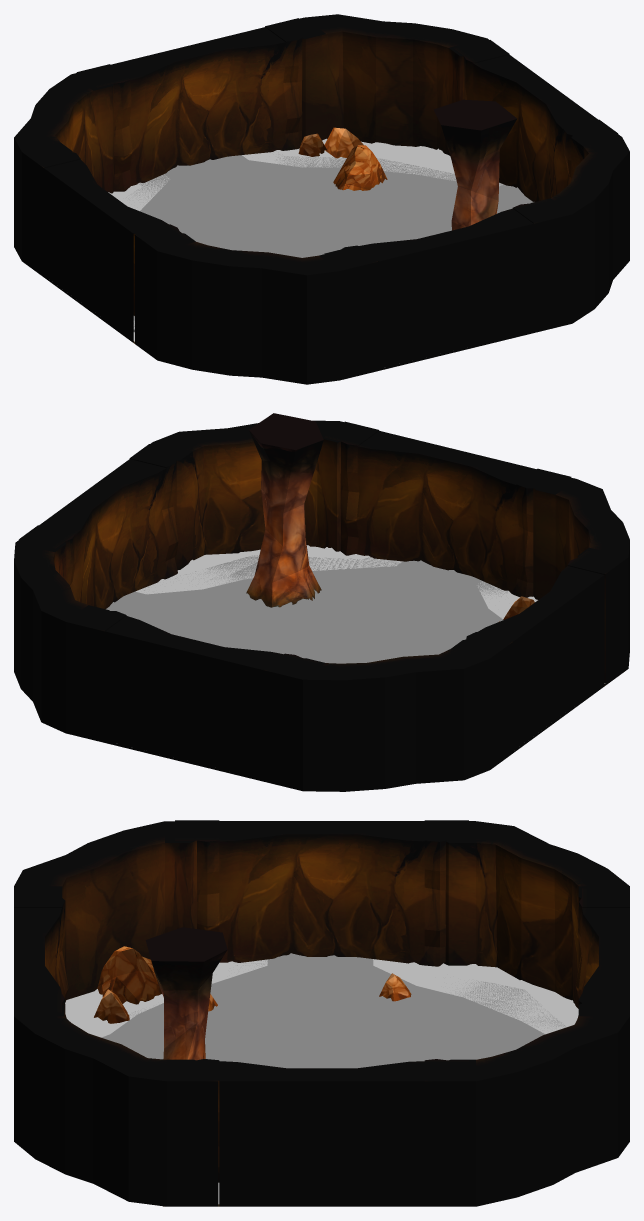
The model's file is Dungeon_062_StartRoom_001_Ev.fbx.
The picture shows the model from 3 angles, top to bottom: view 1: azimuth 30°, elevation 25°; view 2: azimuth 150°, elevation 25°; view 3: azimuth 270°, elevation 25°; orthographic projection. The views are drawn at different scales.
Visible parts, largest first — view 1: Dun_062_StartRoom_001_wall, Dun_062_Door_002 (×4), Dun_062_StartRoom_002_Nav, Dungeon_062_Object_04_Pillar, Dun_062_StartRoom_001_shadow, Dungeon_062_Object_03_Rock, Dun_062_Object_100; view 2: Dun_062_Door_002 (×4), Dun_062_StartRoom_001_wall, Dun_062_StartRoom_002_Nav, Dungeon_062_Object_04_Pillar, Dun_062_StartRoom_001_shadow; view 3: Dun_062_StartRoom_001_wall, Dun_062_Door_002 (×4), Dun_062_StartRoom_002_Nav, Dun_062_StartRoom_001_shadow, Dungeon_062_Object_04_Pillar, Dun_062_Object_100, Dungeon_062_Object_01_Rock.
Boxes of the visible parts, box(x1,y1,x2,y2) form: Dun_062_StartRoom_001_wall: box(14, 14, 629, 384); Dun_062_Door_002 (×4): box(25, 18, 617, 370); Dun_062_StartRoom_002_Nav: box(126, 152, 533, 329); Dungeon_062_Object_04_Pillar: box(433, 99, 516, 230); Dun_062_StartRoom_001_shadow: box(108, 138, 503, 341); Dungeon_062_Object_03_Rock: box(333, 145, 387, 190); Dun_062_Object_100: box(298, 127, 363, 158); Dun_062_Door_002 (×4): box(19, 421, 623, 781); Dun_062_StartRoom_001_wall: box(14, 420, 629, 791); Dun_062_StartRoom_002_Nav: box(106, 555, 507, 663); Dungeon_062_Object_04_Pillar: box(246, 413, 323, 607); Dun_062_StartRoom_001_shadow: box(135, 545, 605, 683); Dun_062_StartRoom_001_wall: box(14, 821, 629, 1206); Dun_062_Door_002 (×4): box(14, 820, 629, 1206); Dun_062_StartRoom_002_Nav: box(101, 953, 565, 1068); Dun_062_StartRoom_001_shadow: box(65, 959, 578, 1204); Dungeon_062_Object_04_Pillar: box(145, 927, 227, 1060); Dun_062_Object_100: box(94, 946, 161, 1023); Dungeon_062_Object_01_Rock: box(379, 973, 411, 1001).
Bounding box in the file's own units: 9.04 × 2.96 × 9.
